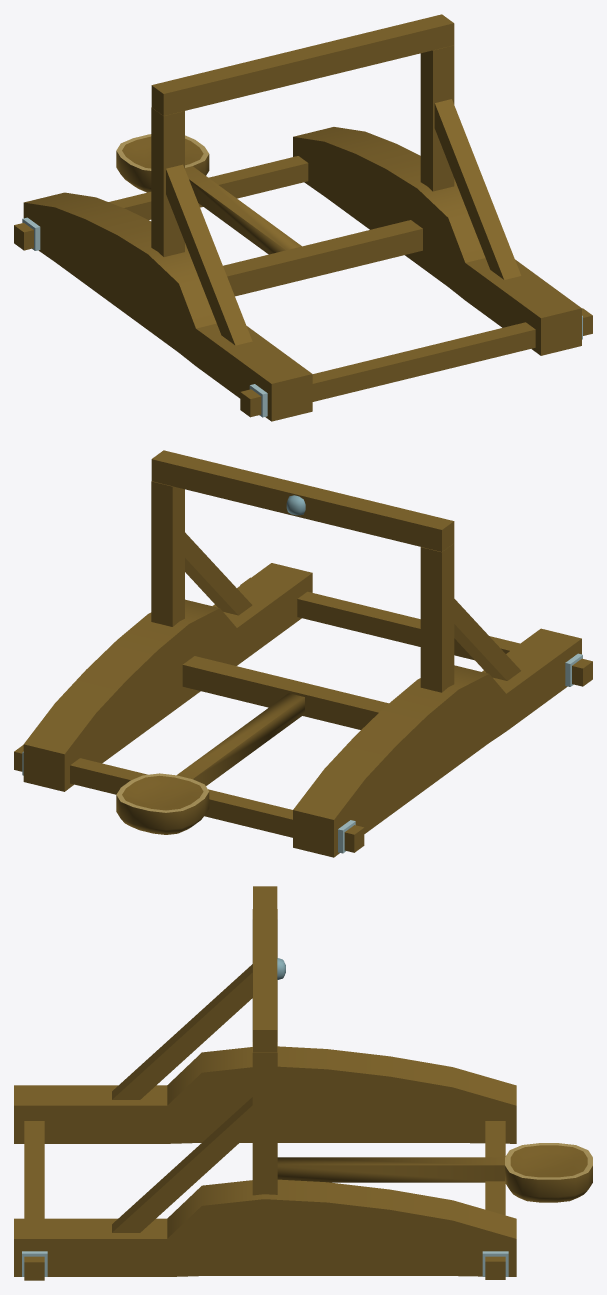
The model's file is Catapult.fbx.
3 renders of one model, top to bottom at view 1: azimuth 30°, elevation 25°; view 2: azimuth 150°, elevation 25°; view 3: azimuth 270°, elevation 25°, orthographic.
Parts seen in each view (by area): view 1: CatapultStands, CatapultStands.001, CatapultCentralSupportBeam, front_beam, middle_beam, CatapultThrower, CatapultsidewaysSupportBeam.001, CatapultsidewaysSupportBeam, CatapultSupportBeam, CatapultSupportBeam.001, back_beam, CatapultSteelCirclets; view 2: CatapultStands, CatapultStands.001, CatapultCentralSupportBeam, CatapultThrower, middle_beam, CatapultSupportBeam, back_beam, CatapultSupportBeam.001, front_beam, CatapultsidewaysSupportBeam.001, CatapultsidewaysSupportBeam, CatapultSteelCirclets; view 3: CatapultStands.001, CatapultStands, CatapultThrower, CatapultsidewaysSupportBeam.001, CatapultsidewaysSupportBeam, CatapultCentralSupportBeam, CatapultSupportBeam.001, front_beam, back_beam, CatapultSteelCirclets.
Boxes of the visible parts, <box> form: CatapultStands: <box>23,192,312,421</box>; CatapultStands.001: <box>293,127,581,355</box>; CatapultCentralSupportBeam: <box>151,14,454,115</box>; front_beam: <box>240,308,592,417</box>; middle_beam: <box>223,220,422,296</box>; CatapultThrower: <box>116,134,301,254</box>; CatapultsidewaysSupportBeam.001: <box>434,99,521,279</box>; CatapultsidewaysSupportBeam: <box>166,164,252,345</box>; CatapultSupportBeam: <box>151,107,184,256</box>; CatapultSupportBeam.001: <box>420,45,454,191</box>; back_beam: <box>14,156,308,250</box>; CatapultSteelCirclets: <box>22,217,582,417</box>; CatapultStands: <box>293,628,581,857</box>; CatapultStands.001: <box>23,563,312,791</box>; CatapultCentralSupportBeam: <box>151,450,454,551</box>; CatapultThrower: <box>116,693,304,834</box>; middle_beam: <box>182,656,388,729</box>; CatapultSupportBeam: <box>420,543,454,692</box>; back_beam: <box>14,745,364,852</box>; CatapultSupportBeam.001: <box>151,481,184,626</box>; front_beam: <box>240,577,592,686</box>; CatapultsidewaysSupportBeam.001: <box>185,532,252,615</box>; CatapultsidewaysSupportBeam: <box>454,599,520,680</box>; CatapultSteelCirclets: <box>22,653,582,853</box>; CatapultStands.001: <box>14,1179,516,1276</box>; CatapultStands: <box>14,1046,516,1143</box>; CatapultThrower: <box>277,1143,592,1202</box>; CatapultsidewaysSupportBeam.001: <box>112,1097,252,1232</box>; CatapultsidewaysSupportBeam: <box>112,964,252,1099</box>; CatapultCentralSupportBeam: <box>253,886,277,1052</box>; CatapultSupportBeam.001: <box>252,1042,277,1195</box>; front_beam: <box>24,1121,44,1280</box>; back_beam: <box>485,1121,505,1279</box>; CatapultSteelCirclets: <box>22,1251,508,1276</box>.
Size of the model in its own units: 8.94 by 12.91 by 5.96.
